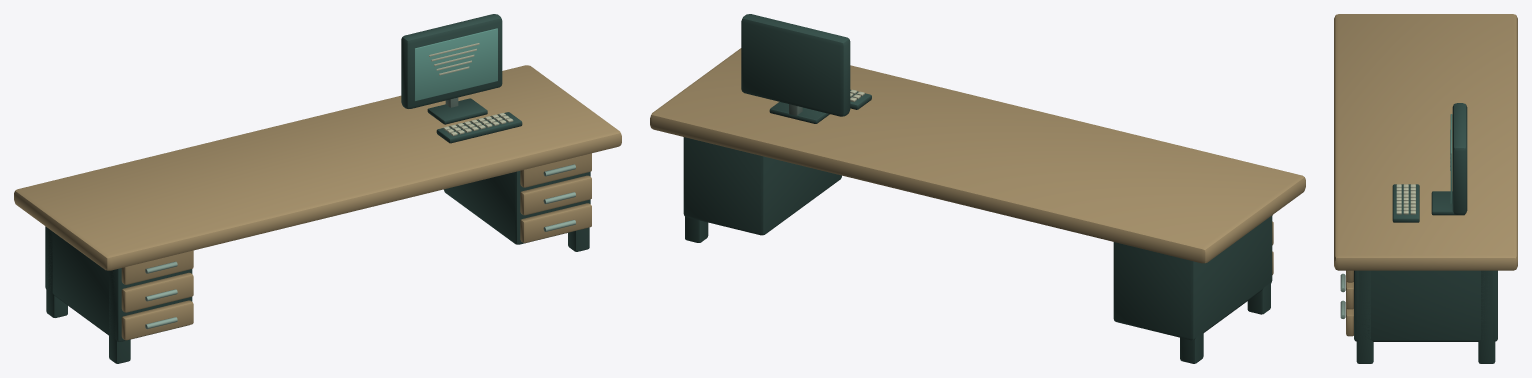
Rendered from kf-desk.glb.
3 renders of one model, left to right at view 1: azimuth 30°, elevation 25°; view 2: azimuth 150°, elevation 25°; view 3: azimuth 270°, elevation 25°, orthographic. The views are drawn at different scales.
Parts seen in each view (by area): view 1: Fixture Wood and fabric, Fixture Painted frame, Fixture Instrument glass, Fixture Steel fittings, Fixture Canvas; view 2: Fixture Wood and fabric, Fixture Painted frame; view 3: Fixture Wood and fabric, Fixture Painted frame, Fixture Canvas, Fixture Instrument glass, Fixture Steel fittings.
Boxes of the visible parts, x1,y1,x2,y2 form: Fixture Wood and fabric: (14,65,621,340); Fixture Painted frame: (45,14,590,363); Fixture Instrument glass: (414,28,497,101); Fixture Steel fittings: (145,97,575,329); Fixture Canvas: (429,43,513,135); Fixture Wood and fabric: (650,48,1305,274); Fixture Painted frame: (683,14,1272,363); Fixture Wood and fabric: (1334,14,1517,336); Fixture Painted frame: (1354,103,1497,363); Fixture Canvas: (1396,129,1450,214); Fixture Instrument glass: (1450,114,1452,203); Fixture Steel fittings: (1340,273,1345,318).
Size of the model in its own units: 4.1 by 1.56 by 1.3.
